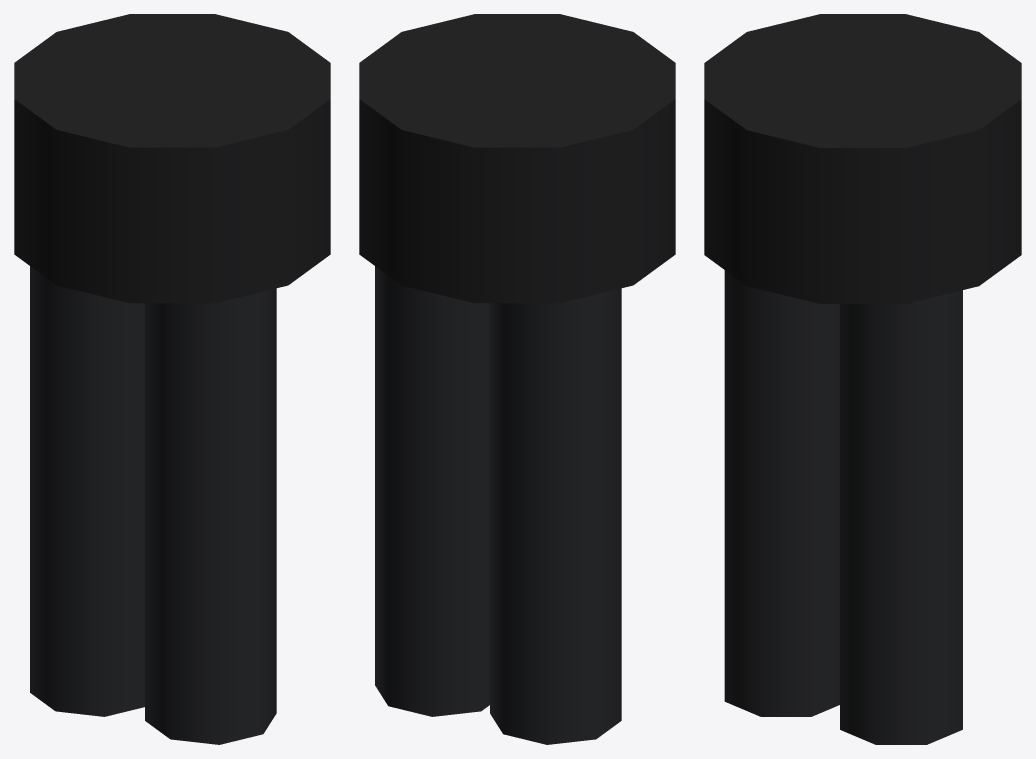
Rendered from end_cable_down.obj.
3 views of the same model, side by side, from view 1: azimuth 30°, elevation 25°; view 2: azimuth 150°, elevation 25°; view 3: azimuth 270°, elevation 25° (orthographic).
Parts seen in each view (by area): view 1: end_cable_down; view 2: end_cable_down; view 3: end_cable_down.
Part boxes in pixels (x1,y1,x2,y2): end_cable_down: [14, 14, 330, 744]; end_cable_down: [359, 14, 675, 744]; end_cable_down: [704, 14, 1021, 744].
Size of the model in its own units: 0.2536 by 0.5375 by 0.2536.
